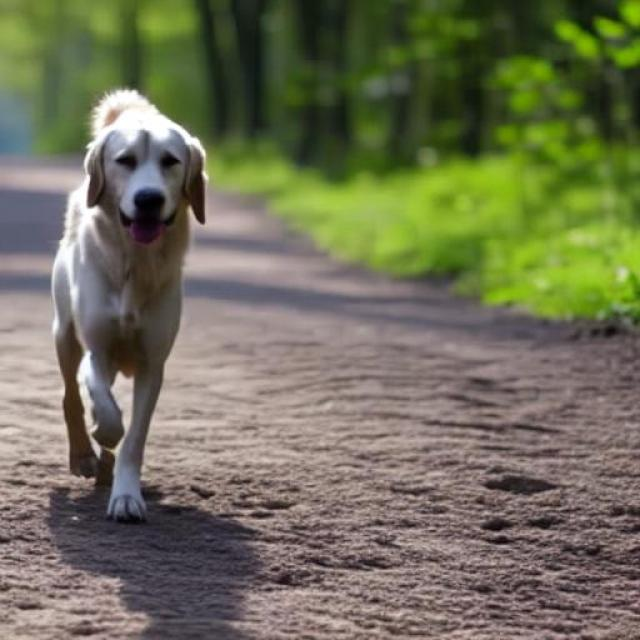Dog: (51, 87, 206, 524)
